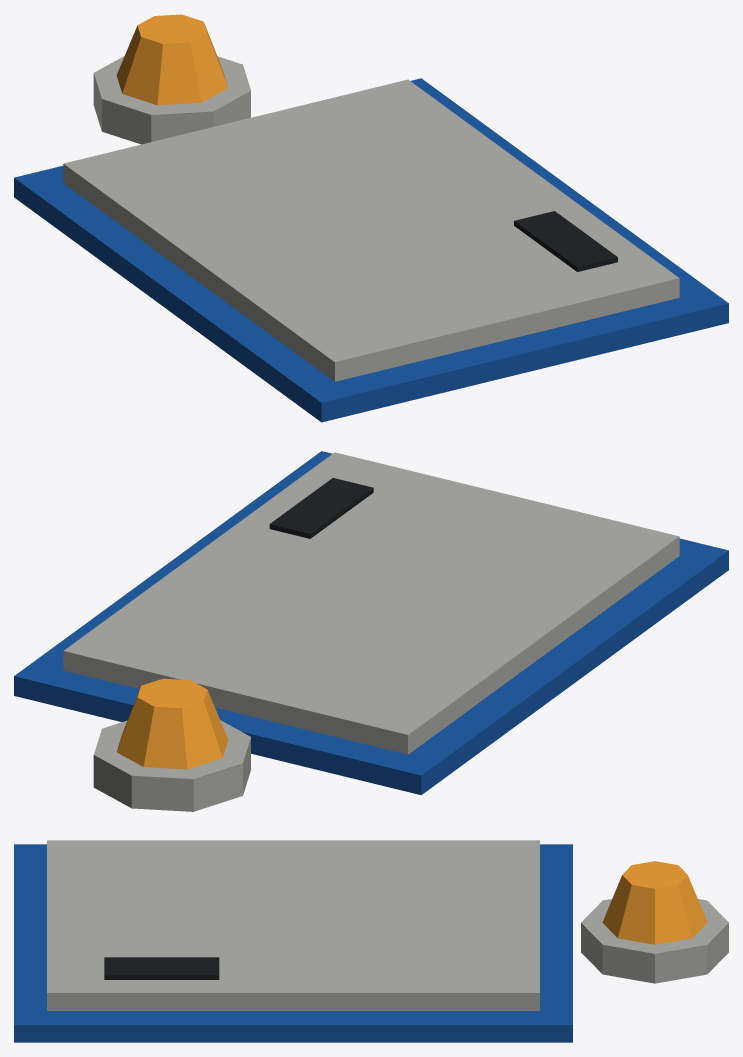
File: civilian_door.glb
The picture shows the model from 3 angles, top to bottom: view 1: azimuth 30°, elevation 25°; view 2: azimuth 150°, elevation 25°; view 3: azimuth 270°, elevation 25°; orthographic projection. The views are drawn at different scales.
Size of the model in its own units: 0.26 by 0.052 by 0.435.
